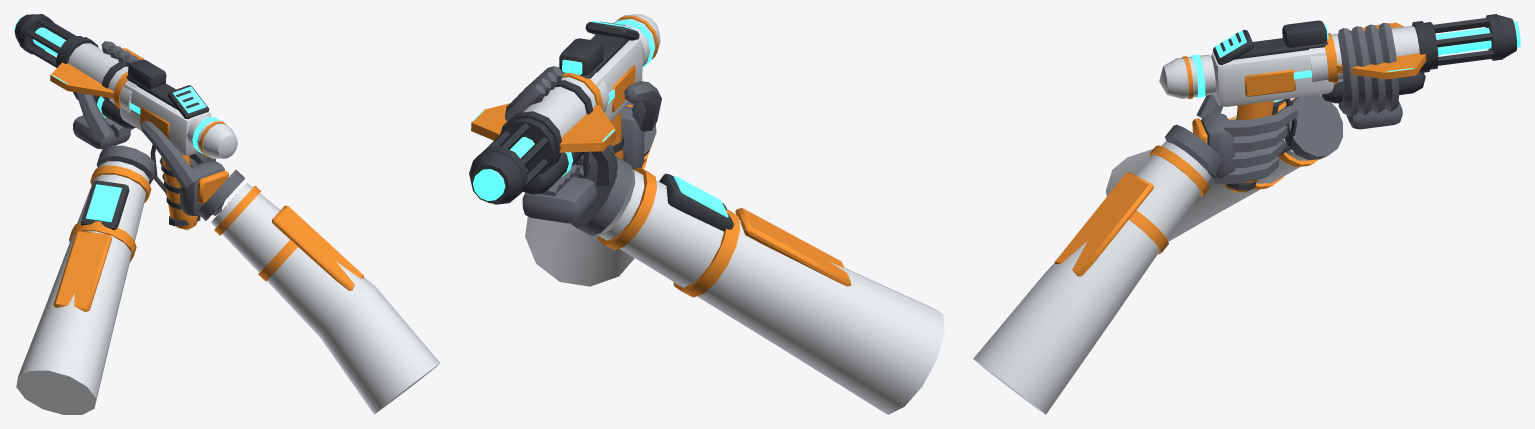
File: fp_viewmodel.glb
3 renders of one model, left to right at view 1: azimuth 30°, elevation 25°; view 2: azimuth 150°, elevation 25°; view 3: azimuth 270°, elevation 25°, orthographic. The views are drawn at different scales.
Visible parts, largest first — view 1: FP_Arms, FP_Tool; view 2: FP_Arms, FP_Tool; view 3: FP_Arms, FP_Tool.
Part boxes in pixels (bbox=[...]): FP_Arms: bbox=[16, 41, 440, 414]; FP_Tool: bbox=[14, 14, 237, 230]; FP_Arms: bbox=[505, 66, 944, 414]; FP_Tool: bbox=[469, 14, 660, 204]; FP_Arms: bbox=[973, 23, 1402, 414]; FP_Tool: bbox=[1159, 14, 1520, 192].
Bounding box in the file's own units: 0.9086 × 0.7001 × 1.08.
